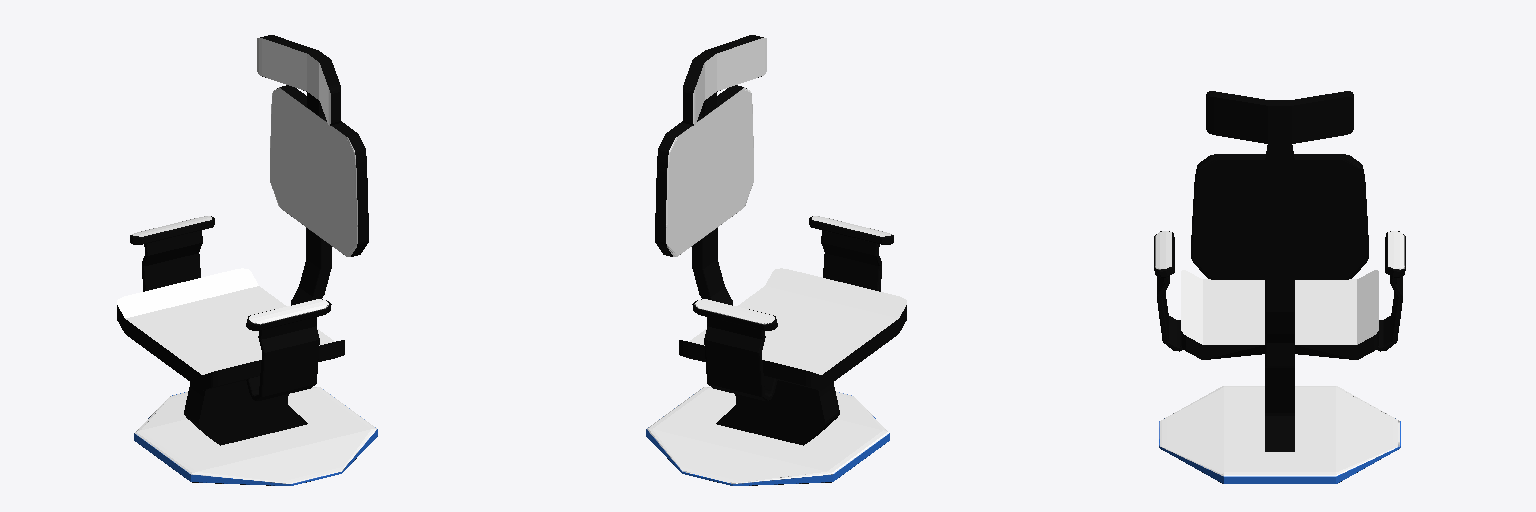
The picture shows the model from 3 angles: view 1: azimuth 30°, elevation 25°; view 2: azimuth 150°, elevation 25°; view 3: azimuth 270°, elevation 25°; orthographic projection.
Parts seen in each view (by area): view 1: Krzeslo.NR1_Cube.042; view 2: Krzeslo.NR1_Cube.042; view 3: Krzeslo.NR1_Cube.042.
Part boxes in pixels (x1,y1,x2,y2): Krzeslo.NR1_Cube.042: (117,35,377,485); Krzeslo.NR1_Cube.042: (646,35,906,485); Krzeslo.NR1_Cube.042: (1154,91,1405,483).
Size of the model in its own units: 2.79 by 5.24 by 3.25.
Materials: 1 (1 with a texture image).